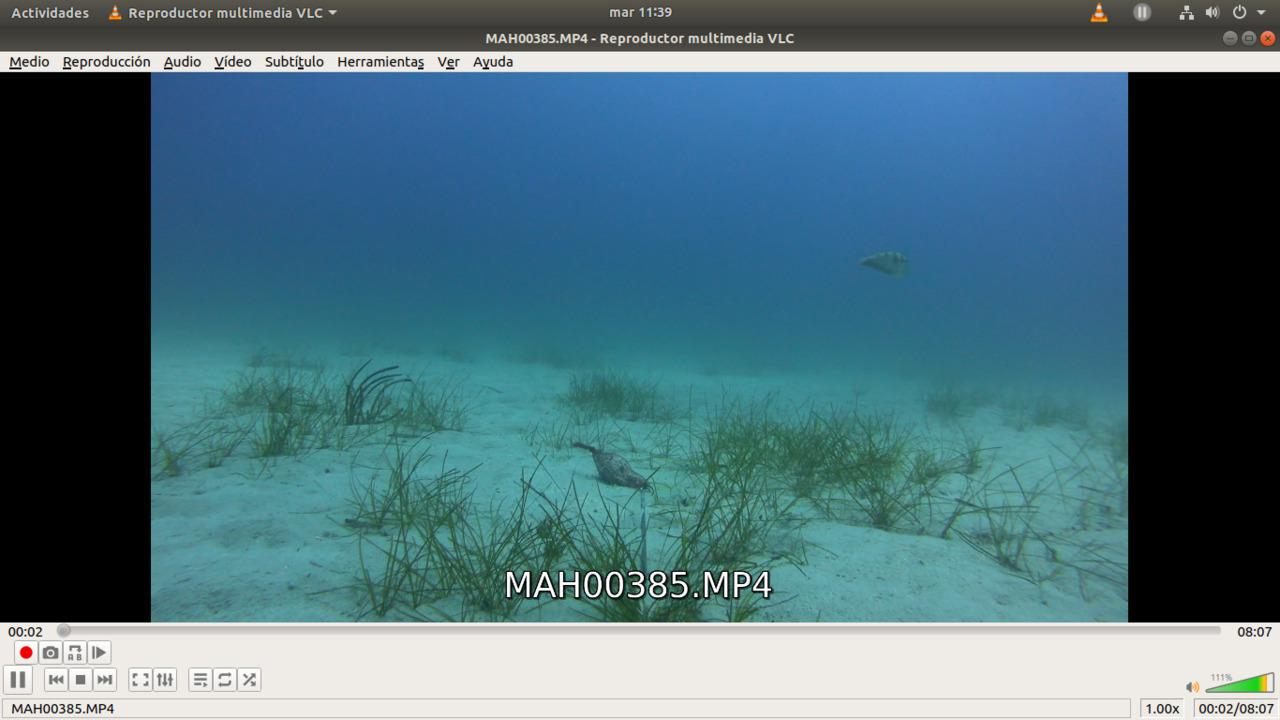raor: (845, 241, 912, 282)
